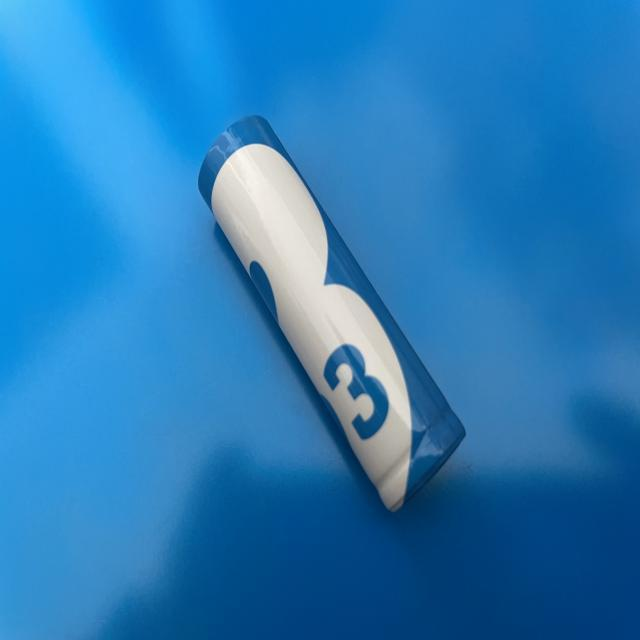hazardous waste: (198, 114, 463, 514)
